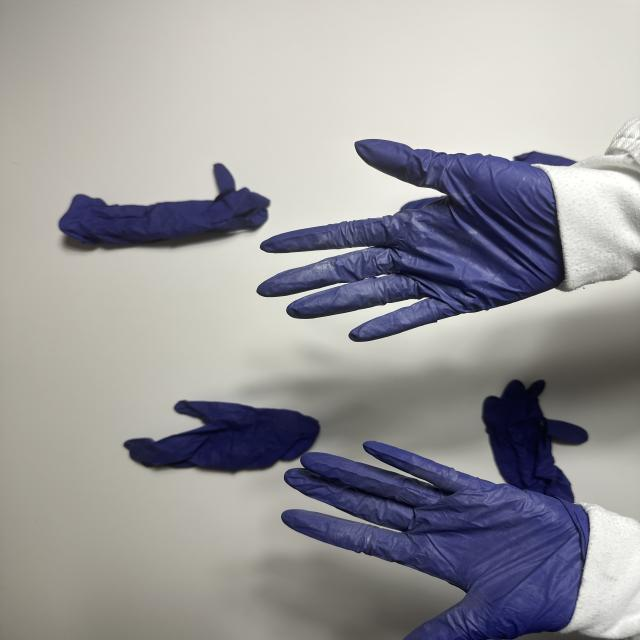gloves_contaminated: (258, 140, 564, 341), (282, 441, 586, 640)
